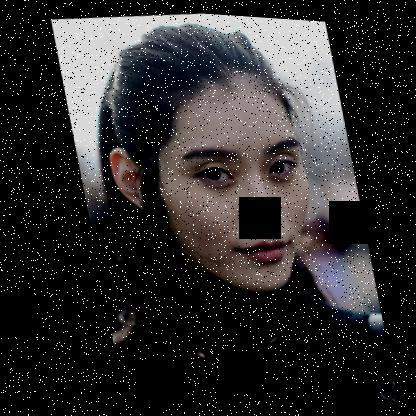Female: (88, 55, 324, 306)
